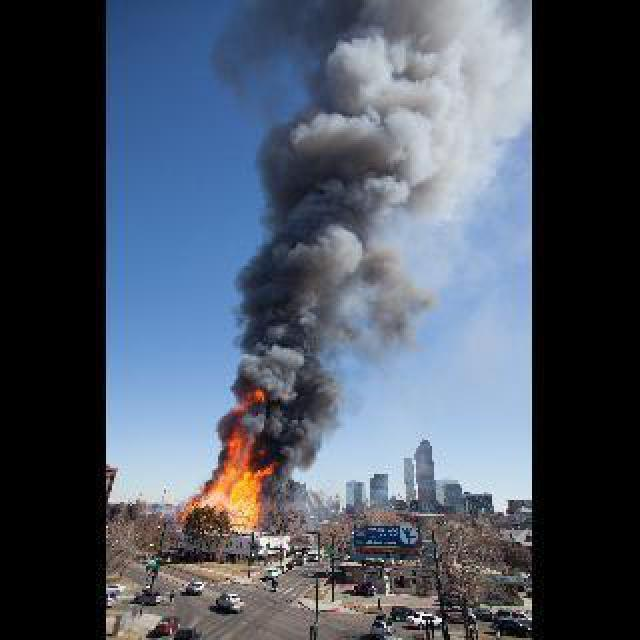Fire: (192, 436, 276, 534)
Smoke: (212, 10, 514, 452)
